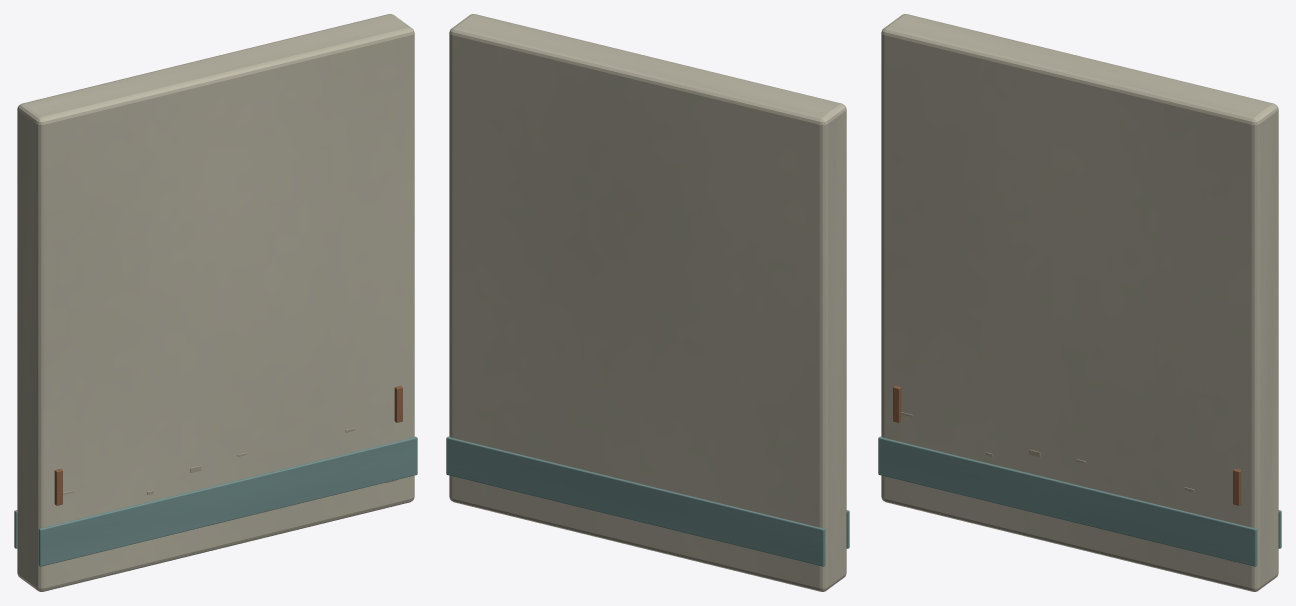
The model's file is Wall_Solid_4m.glb.
3 renders of one model, left to right at view 1: azimuth 30°, elevation 25°; view 2: azimuth 150°, elevation 25°; view 3: azimuth 330°, elevation 25°, orthographic.
Visible parts, largest first — view 1: Wall_Solid_4m; view 2: Wall_Solid_4m; view 3: Wall_Solid_4m.
Boxes of the visible parts, bbox=[...] form: Wall_Solid_4m: bbox=[14, 14, 417, 591]; Wall_Solid_4m: bbox=[446, 14, 849, 591]; Wall_Solid_4m: bbox=[878, 14, 1281, 591].
Size of the model in its own units: 4 by 4.8 by 0.4985.
Materials: 4 (3 with a texture image).
